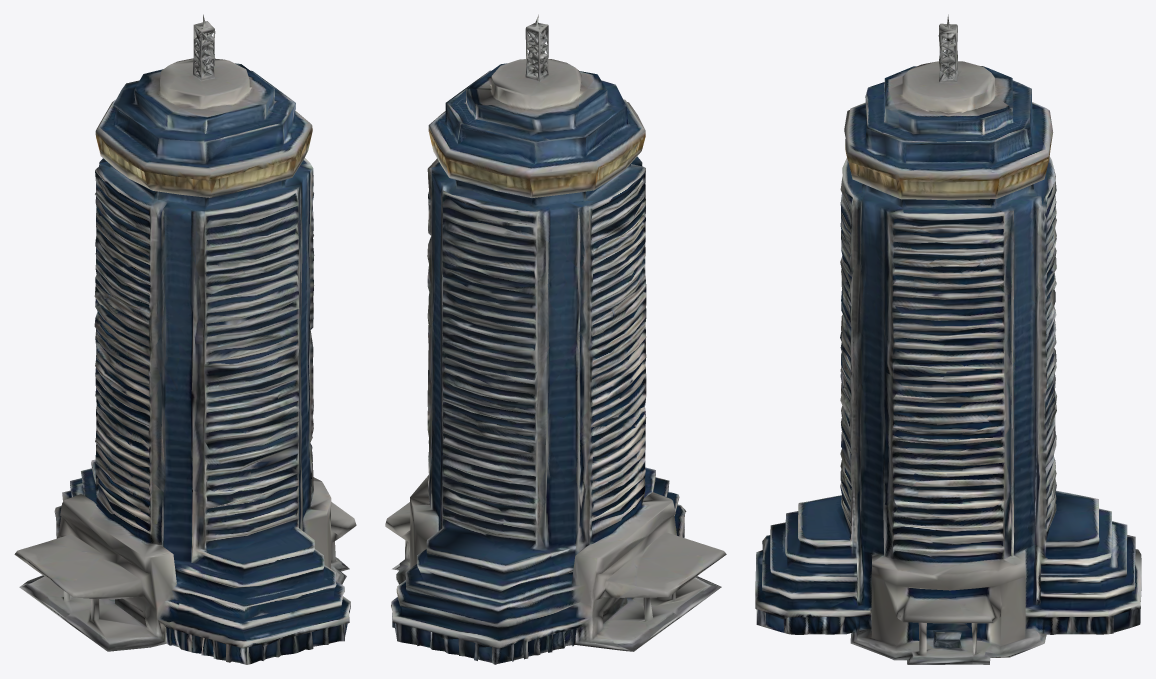
The model's file is au_sky_roppongi_spire.glb.
The picture shows the model from 3 angles, left to right: view 1: azimuth 30°, elevation 25°; view 2: azimuth 150°, elevation 25°; view 3: azimuth 270°, elevation 25°; orthographic projection. The views are drawn at different scales.
Parts seen in each view (by area): view 1: tripo_node_53218584-c29f-403f-8be5-6e20ee2449c7; view 2: tripo_node_53218584-c29f-403f-8be5-6e20ee2449c7; view 3: tripo_node_53218584-c29f-403f-8be5-6e20ee2449c7.
Boxes of the visible parts, x1,y1,x2,y2 form: tripo_node_53218584-c29f-403f-8be5-6e20ee2449c7: (14,14,356,664); tripo_node_53218584-c29f-403f-8be5-6e20ee2449c7: (385,14,726,664); tripo_node_53218584-c29f-403f-8be5-6e20ee2449c7: (755,14,1141,664).
Size of the model in its own units: 0.5082 by 0.9535 by 0.5688.
1 material, 1 textured.
